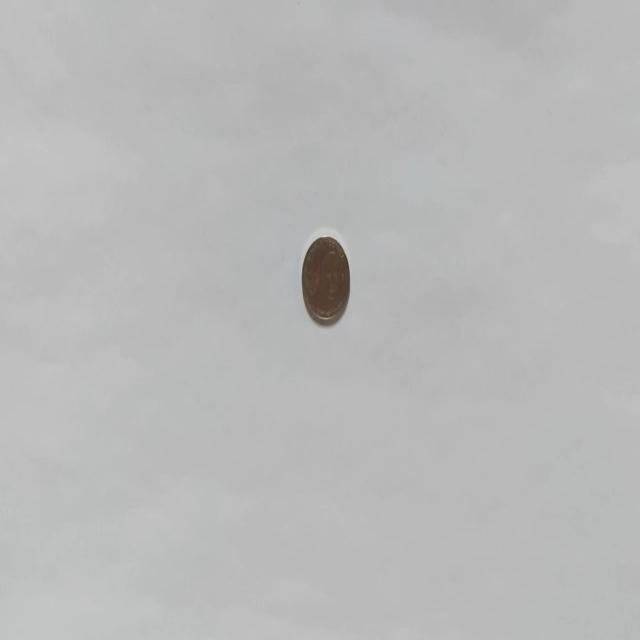seribu rupiah koin: (300, 230, 350, 326)
